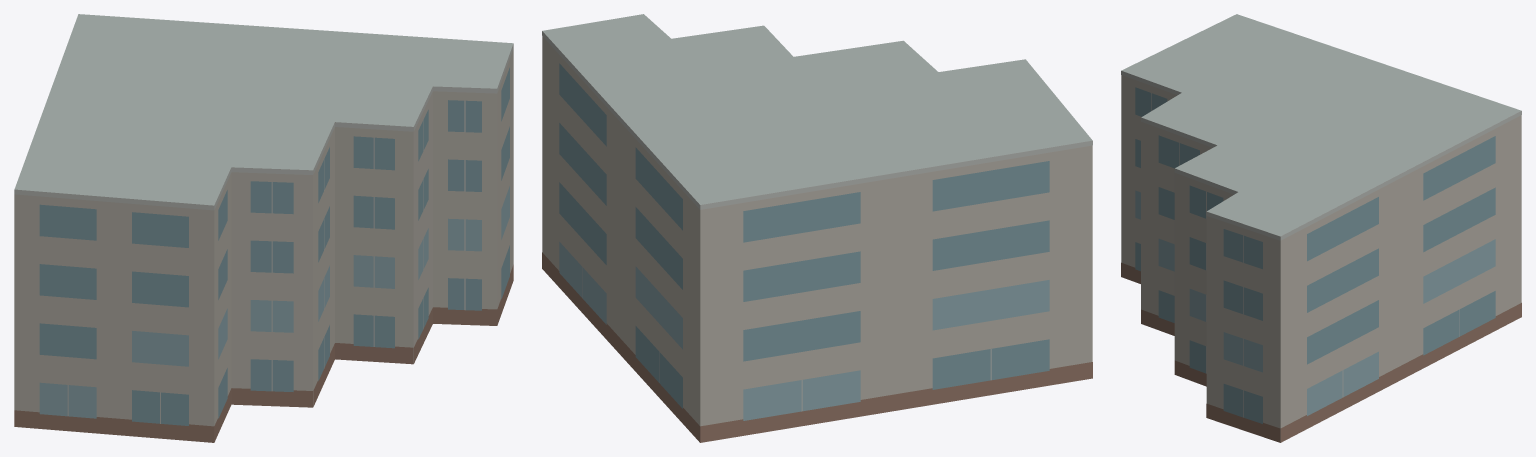
Rendered from survey-upis-32709524.glb.
3 renders of one model, left to right at view 1: azimuth 30°, elevation 25°; view 2: azimuth 150°, elevation 25°; view 3: azimuth 270°, elevation 25°, orthographic. The views are drawn at different scales.
Parts seen in each view (by area): view 1: survey-upis-32709524.tmp; view 2: survey-upis-32709524.tmp; view 3: survey-upis-32709524.tmp.
Boxes of the visible parts, x1,y1,x2,y2 form: survey-upis-32709524.tmp: [14, 14, 513, 442]; survey-upis-32709524.tmp: [542, 14, 1092, 442]; survey-upis-32709524.tmp: [1121, 14, 1521, 442].
Bounding box in the file's own units: 27.52 × 11.9 × 20.94.
